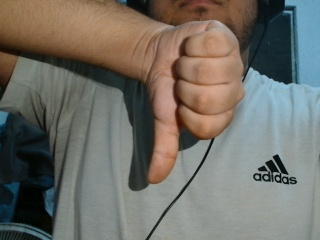Atras: (136, 14, 250, 186)
